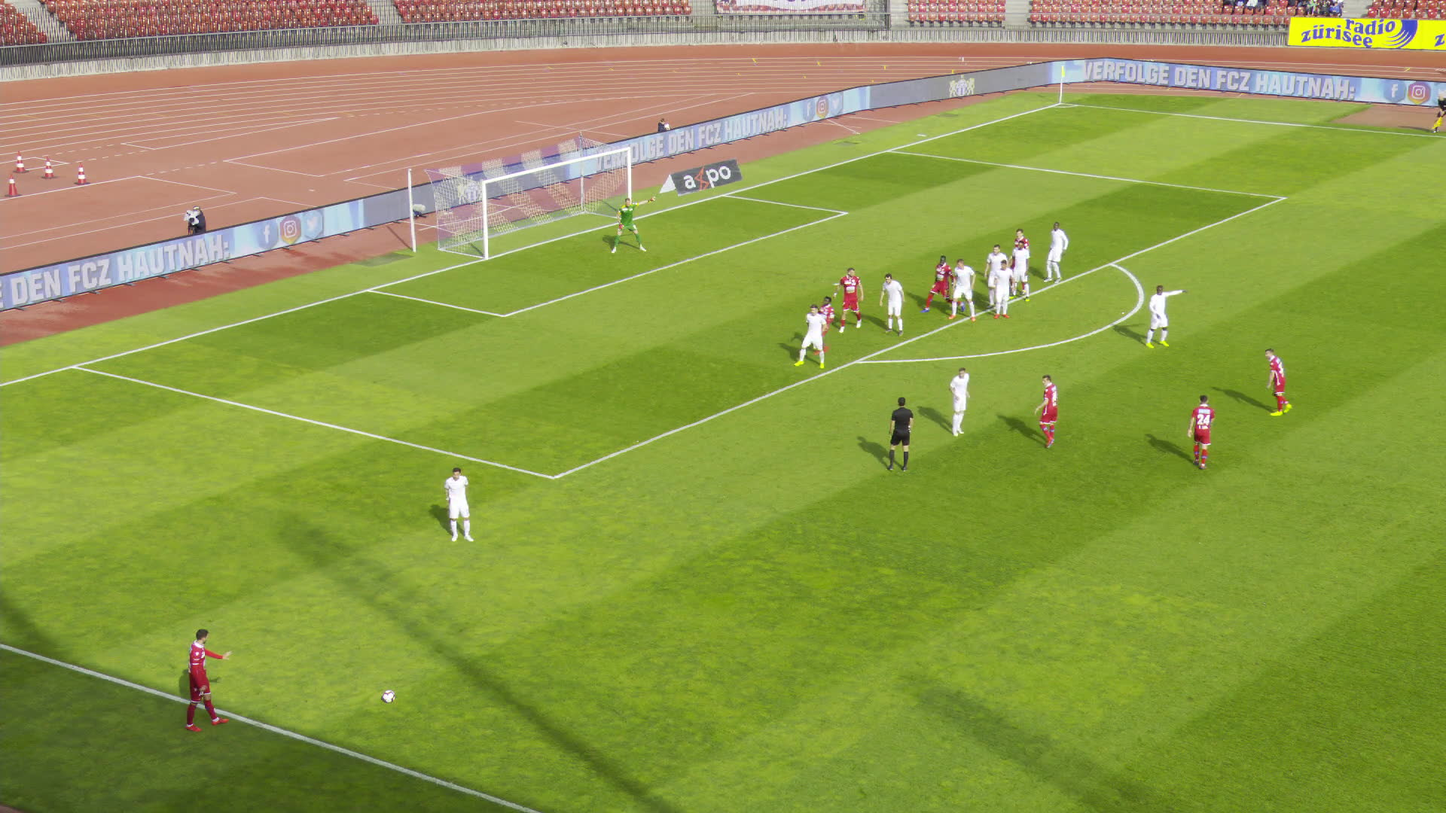ball: (382, 689, 395, 702)
player: (186, 628, 230, 732), (611, 196, 655, 254), (1146, 285, 1185, 349), (443, 467, 476, 542), (1188, 396, 1216, 469), (831, 267, 862, 332), (1264, 349, 1293, 416), (797, 304, 826, 368), (948, 258, 976, 321), (930, 253, 959, 312), (983, 245, 1010, 307), (813, 294, 840, 353), (947, 368, 969, 438), (880, 274, 905, 335), (1036, 375, 1057, 446), (1008, 228, 1029, 297), (1045, 223, 1068, 285), (1009, 241, 1030, 302), (993, 260, 1011, 319)
referee: (886, 396, 913, 471), (1431, 93, 1445, 132)
